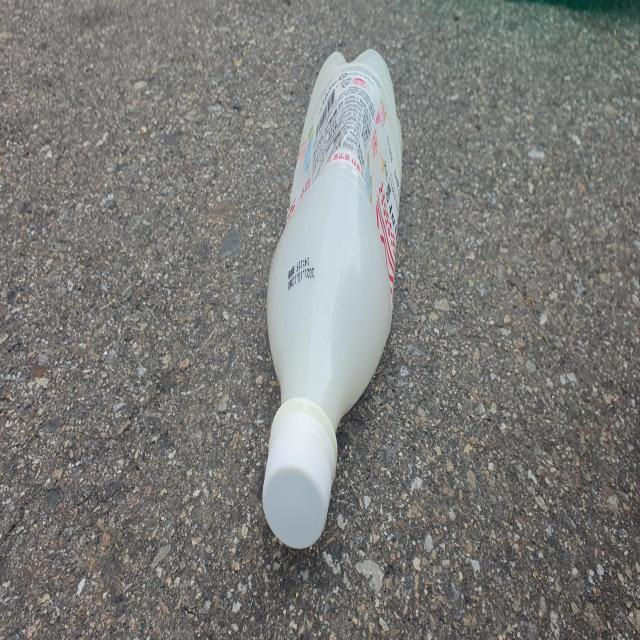plastic: (263, 47, 403, 548)
